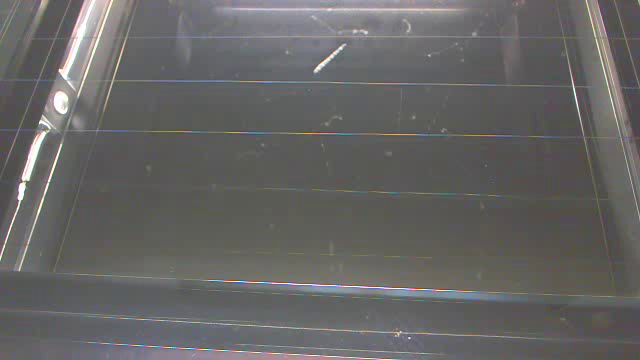Alfa: (311, 38, 355, 77)
